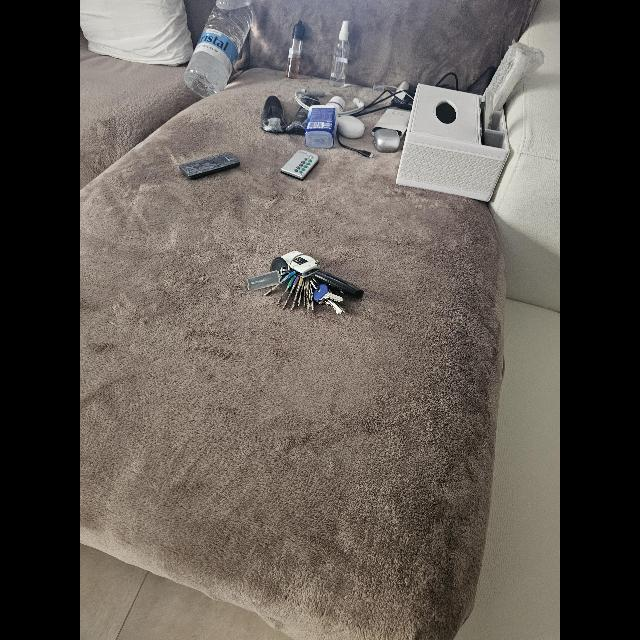Keys: (250, 252, 358, 316)
